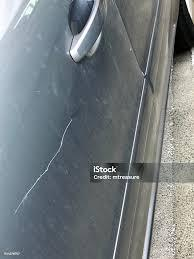scratch: (10, 113, 81, 222)
